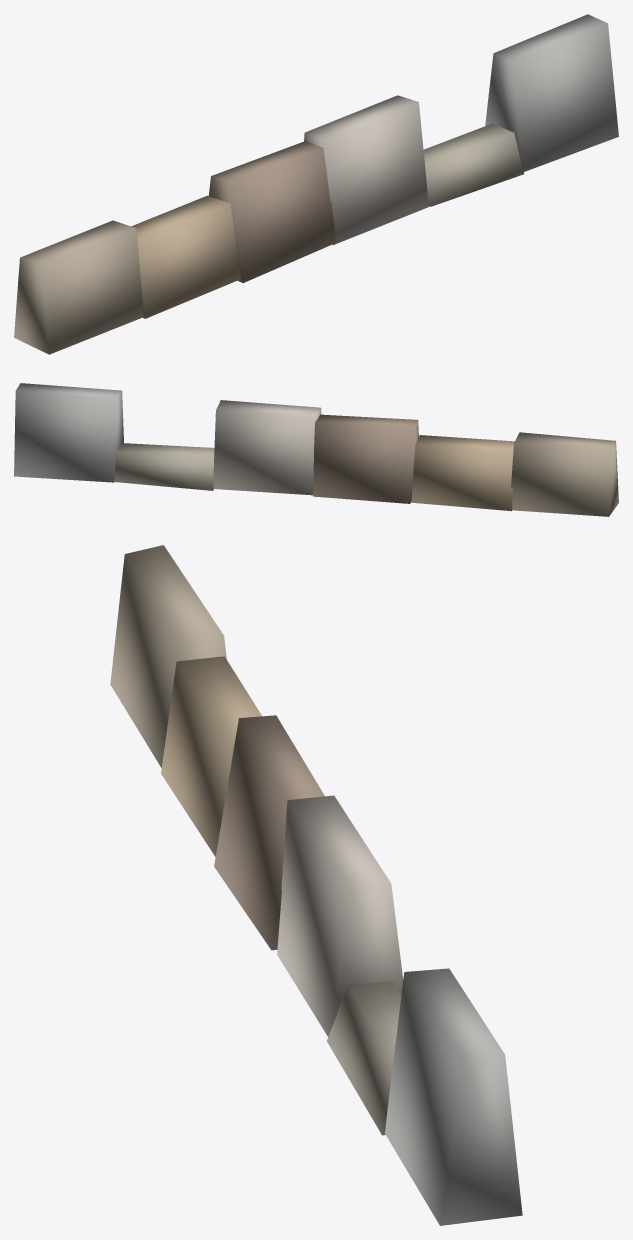
Rendered from farm_-2_15_far.glb.
The picture shows the model from 3 angles, top to bottom: view 1: azimuth 30°, elevation 25°; view 2: azimuth 150°, elevation 25°; view 3: azimuth 270°, elevation 25°; orthographic projection. The views are drawn at different scales.
Parts seen in each view (by area): view 1: geometry_0; view 2: geometry_0; view 3: geometry_0.
Part boxes in pixels (x1,y1,x2,y2): geometry_0: (14, 14, 618, 354); geometry_0: (14, 383, 618, 516); geometry_0: (110, 545, 522, 1225).
Bounding box in the file's own units: 9.39 × 1.5 × 3.22.
